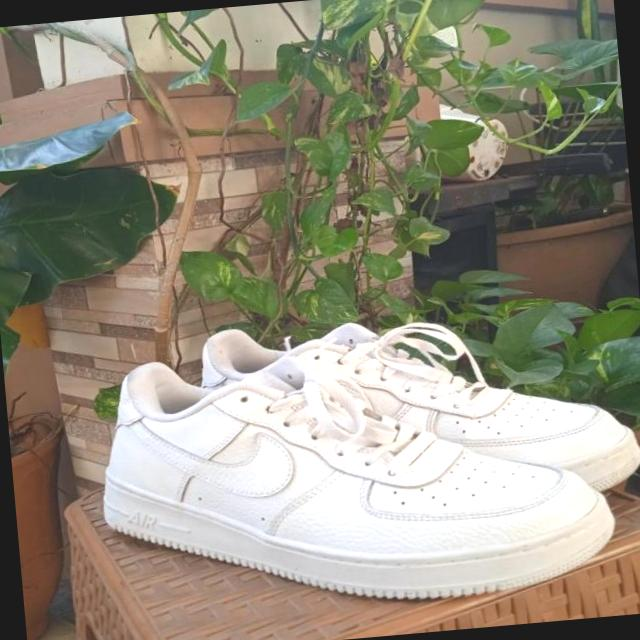nike_fake_airforce: (88, 319, 620, 627), (198, 294, 640, 530)
